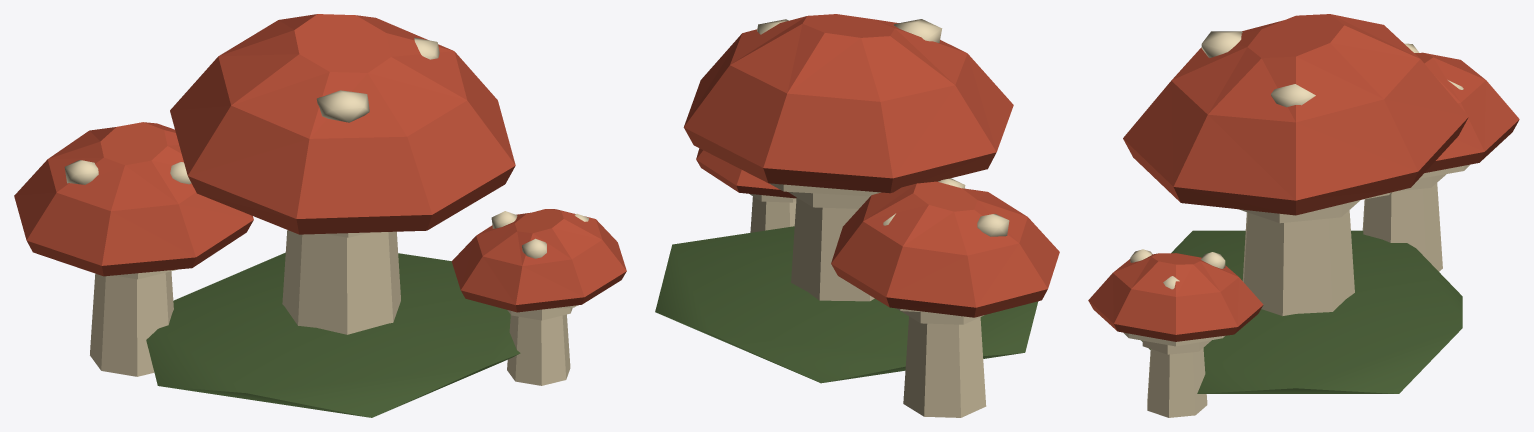
File: foliage_mushroom_cluster_a.glb
The picture shows the model from 3 angles, left to right: view 1: azimuth 30°, elevation 25°; view 2: azimuth 150°, elevation 25°; view 3: azimuth 270°, elevation 25°; orthographic projection. The views are drawn at different scales.
Visible parts, largest first — view 1: shroom_cap_0, shroom_litter, shroom_gills_0; view 2: shroom_cap_0, shroom_litter, shroom_gills_0; view 3: shroom_cap_0, shroom_litter, shroom_gills_0.
Part boxes in pixels (x1,y1,x2,y2): shroom_cap_0: (14, 14, 626, 312); shroom_litter: (146, 252, 520, 417); shroom_gills_0: (64, 37, 588, 385); shroom_cap_0: (683, 14, 1059, 317); shroom_litter: (655, 226, 1038, 383); shroom_gills_0: (750, 19, 1009, 417); shroom_cap_0: (1088, 14, 1519, 341); shroom_litter: (1141, 230, 1462, 393); shroom_gills_0: (1124, 31, 1469, 417).
Size of the model in its own units: 0.23 by 0.1512 by 0.187.
